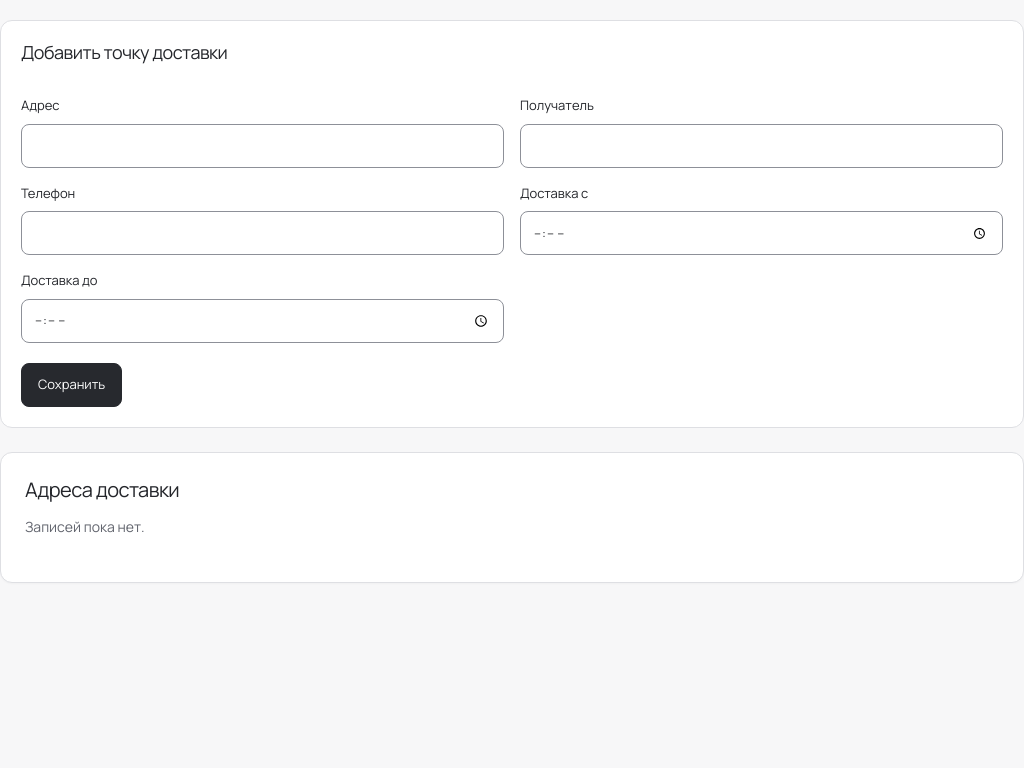
Test: blocks an unusable window –08:00 before sending it and preserves the form
In the field labelled "Адрес": (262,146) [21,124,504,168], type "Абая 25"
In the field labelled "Получатель": (762,146) [520,124,1003,168], type "Получатель"
In the field labelled "Телефон": (262,233) [21,211,504,255], type "+77019999881"
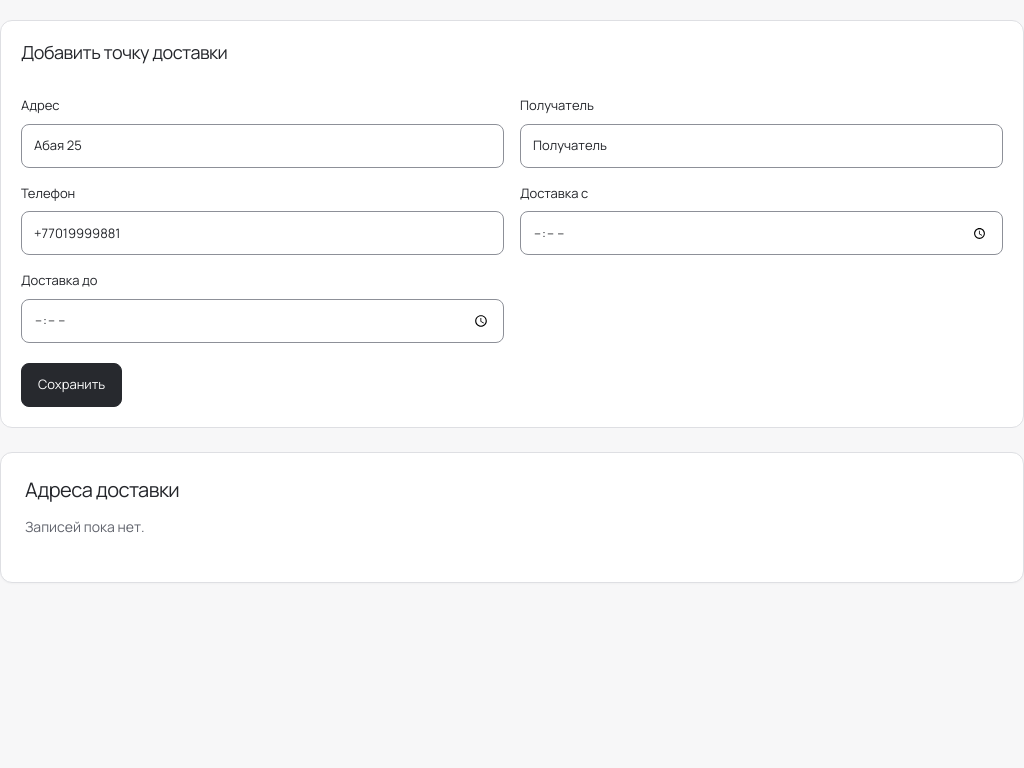
In the time field labelled "Доставка до": (262,321) [21,299,504,343], type "08:00"
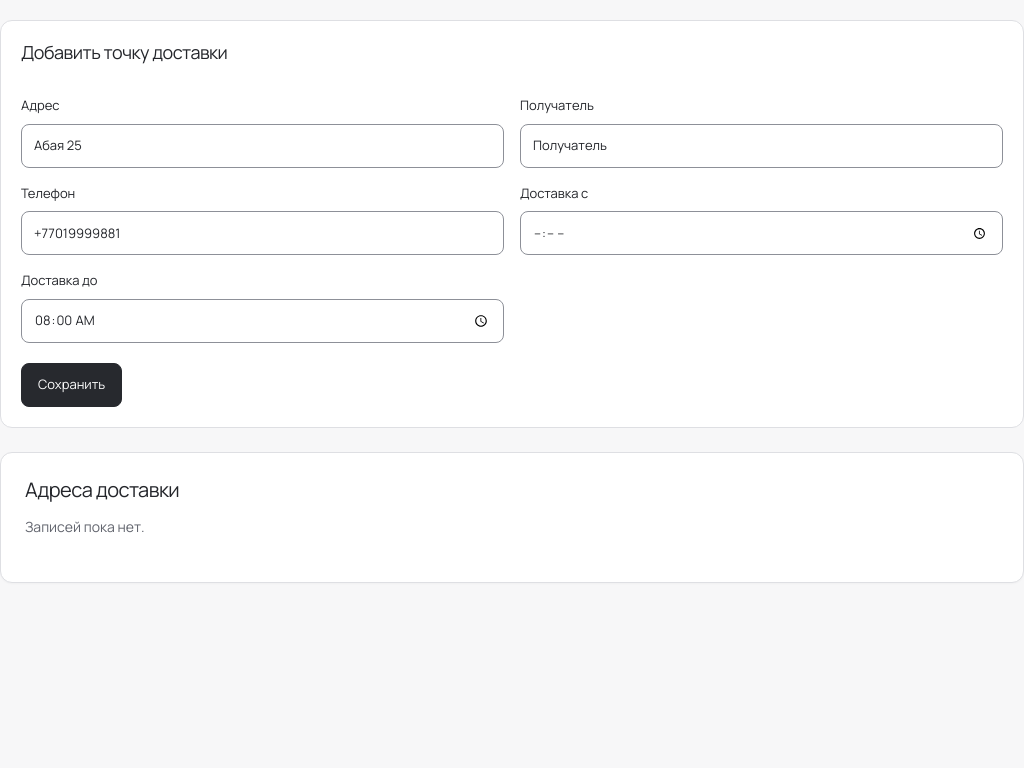
Click the button "Сохранить": (72,385) [21,363,122,407]
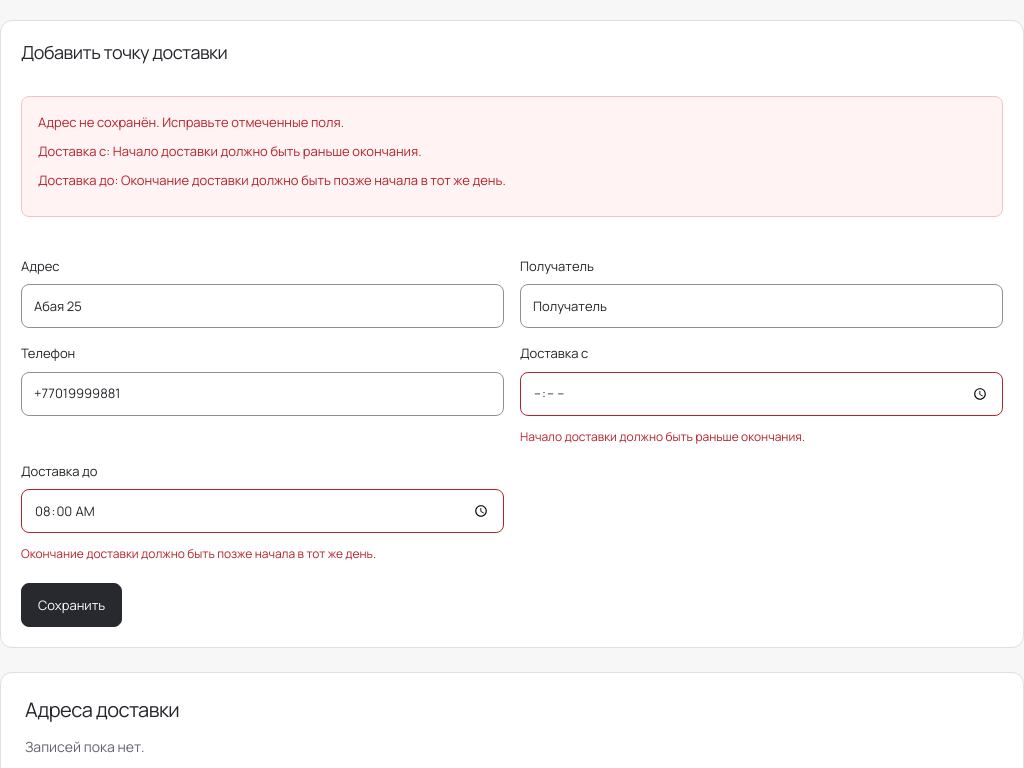
Now the message is shown, box [21,96,1003,217]
In the time field labelled "Доставка с": (762,394) [520,372,1003,416], type "09:00"
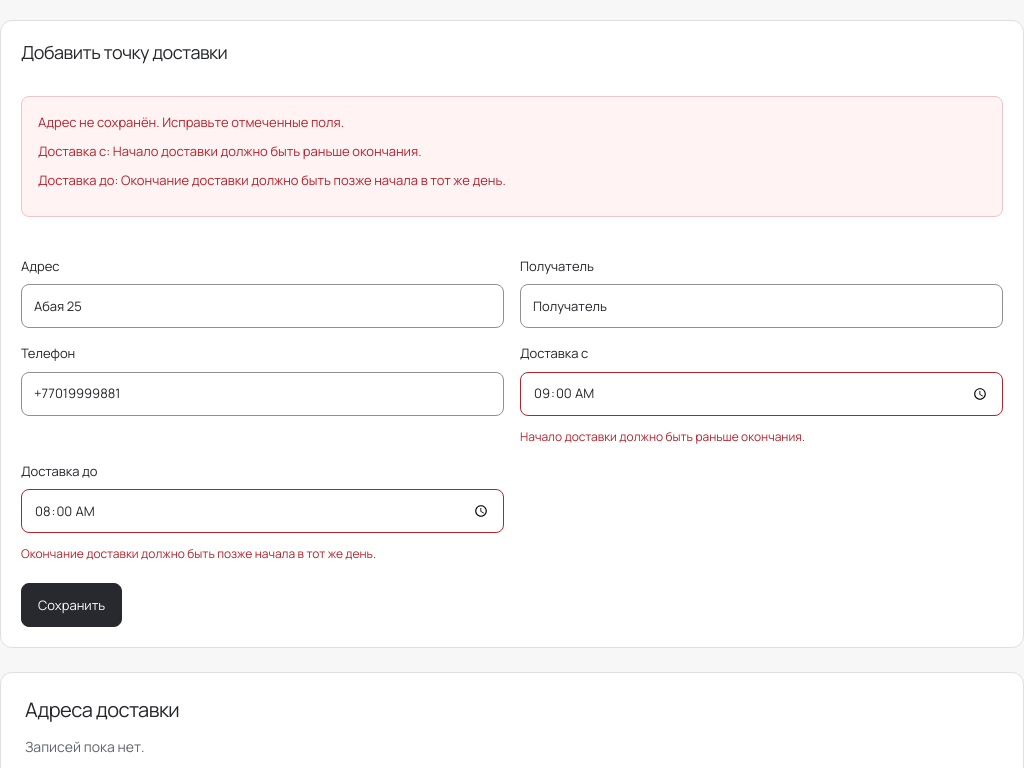
Replace the text in the time field labelled "Доставка до" with "20:00": (262,511) [21,489,504,533]
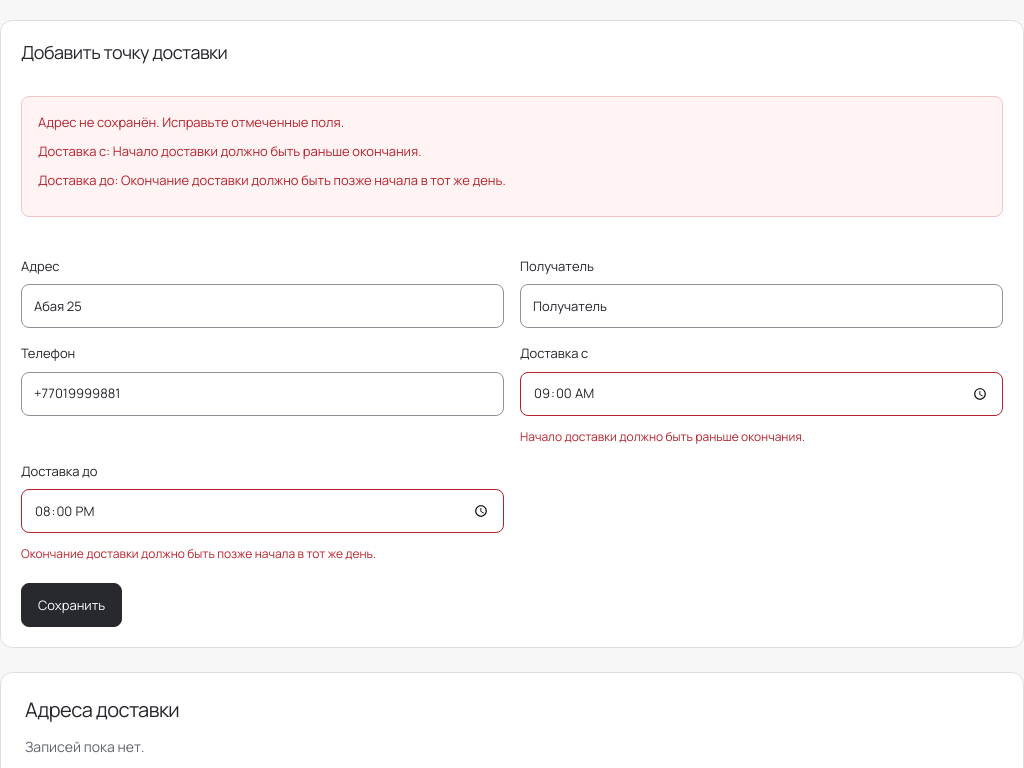
Click the button "Сохранить": (72,605) [21,583,122,627]
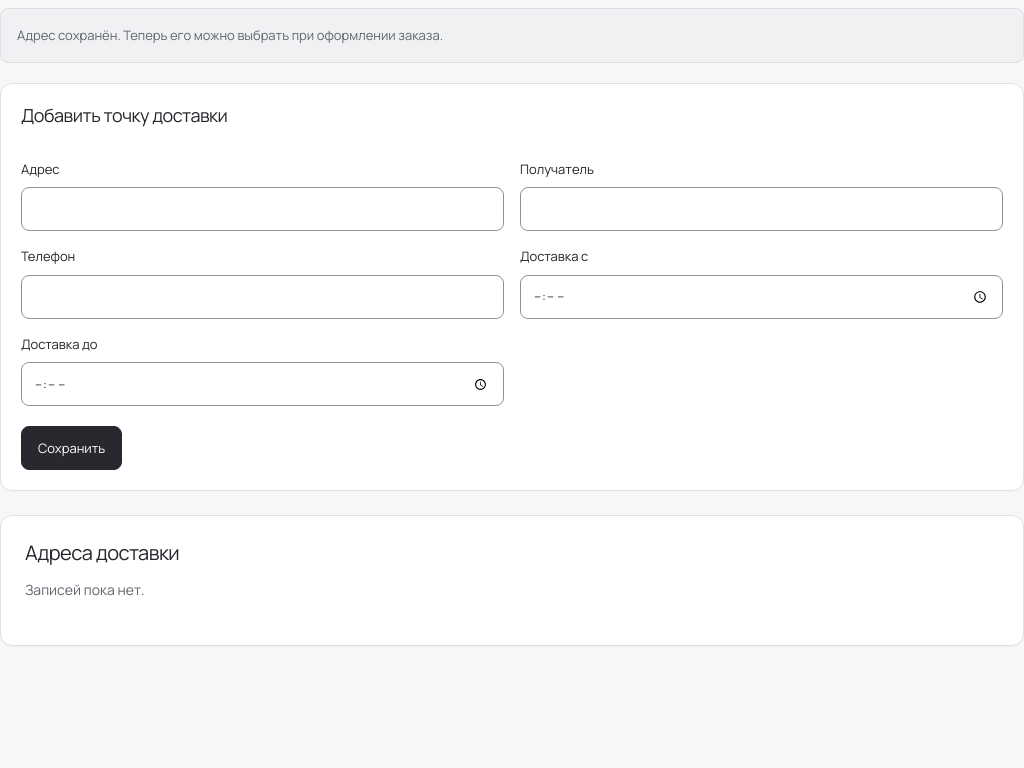
Now the message "Адрес сохранён. Теперь его можно выбрать при оформлении заказа." is shown, box [0,8,1023,63]
